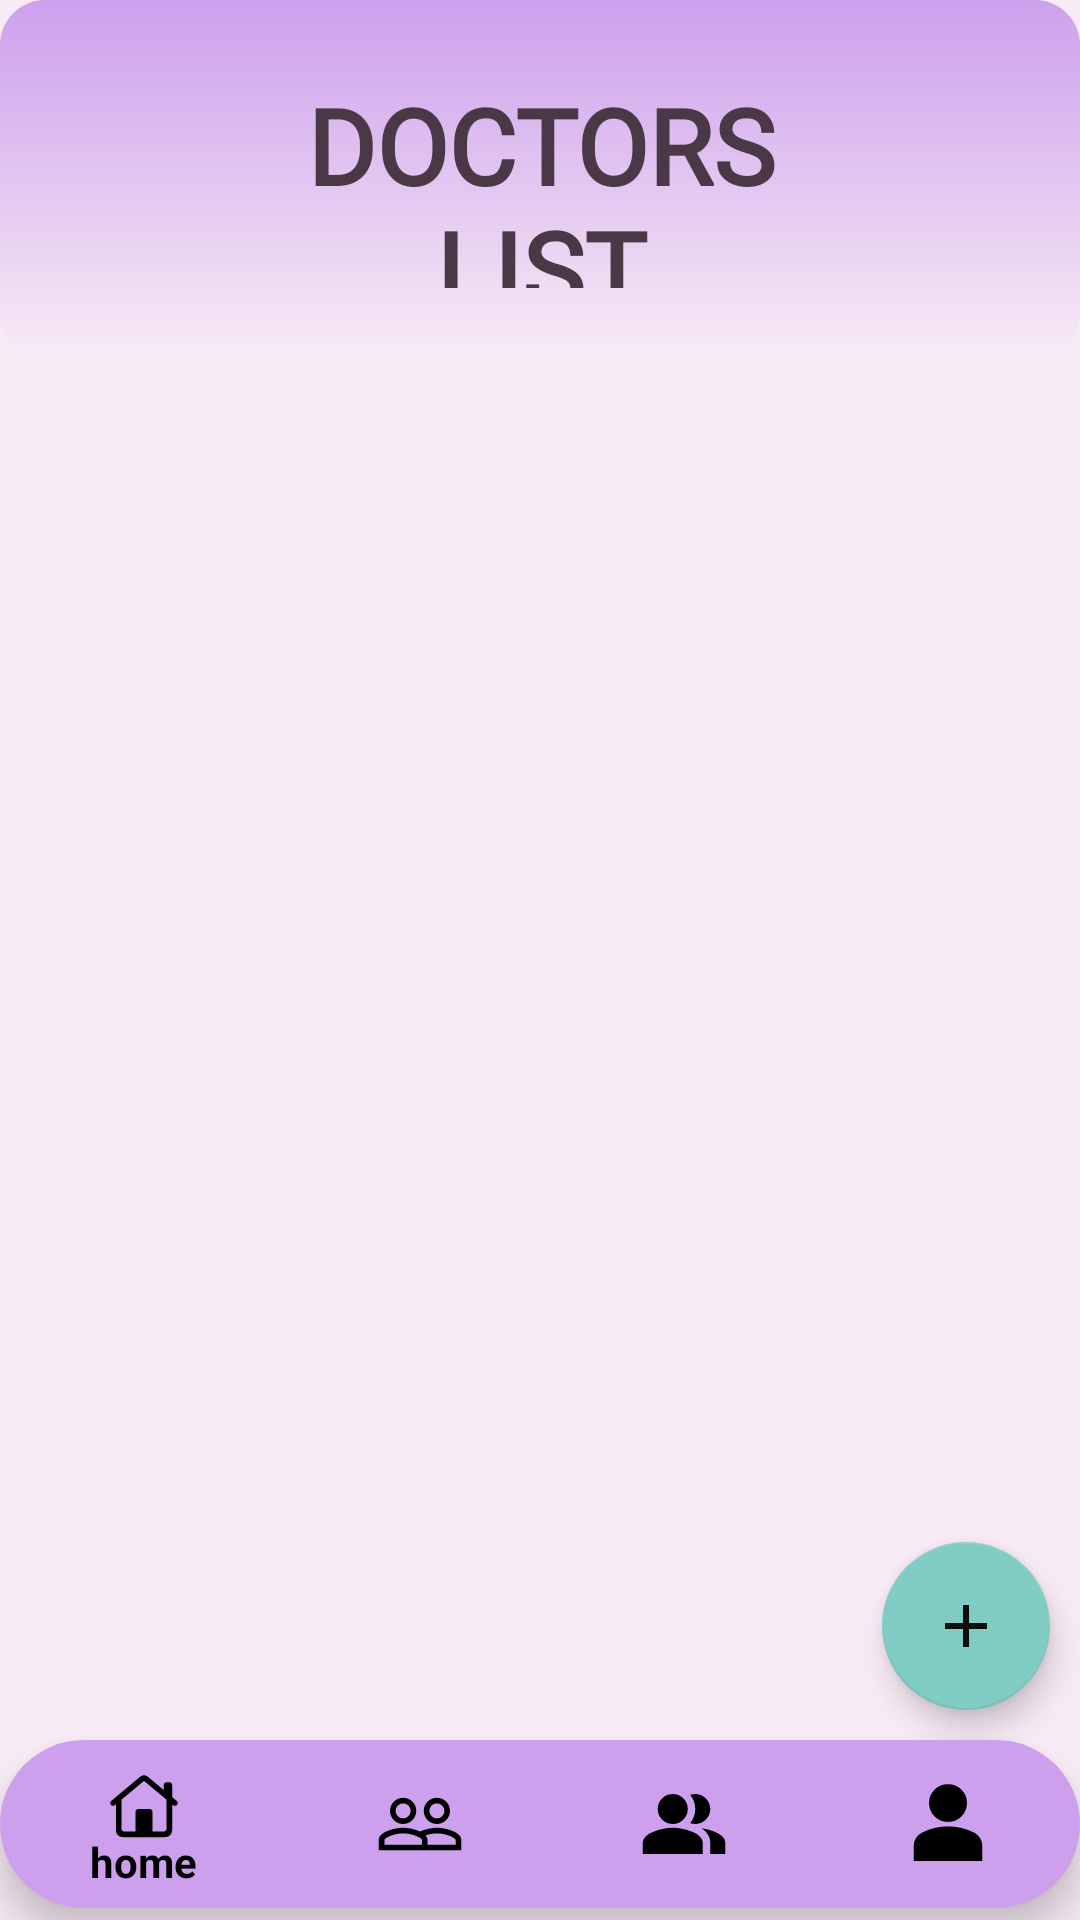

Where icons sit on this 1080px×1920px app screen, as (x1, y1, x2, y2):
pluss: (882, 1542, 1050, 1710)
